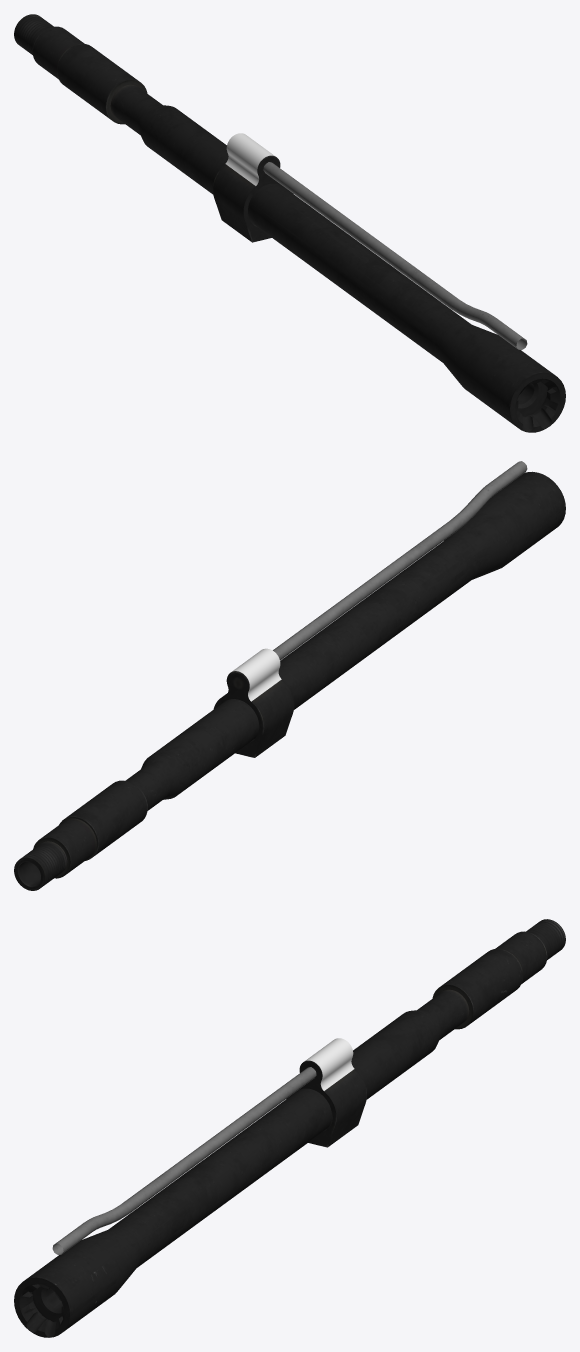
File: AR_15_barrel.glb
3 renders of one model, top to bottom at view 1: azimuth 30°, elevation 25°; view 2: azimuth 150°, elevation 25°; view 3: azimuth 330°, elevation 25°, orthographic.
Visible parts, largest first — view 1: M4_Barrel_4, M4_Barrel_5, M4_Barrel_4_Gas_Tube, M4_Gas_Block; view 2: M4_Barrel_4, M4_Barrel_5, M4_Gas_Block, M4_Barrel_4_Gas_Tube; view 3: M4_Barrel_4, M4_Barrel_5, M4_Barrel_4_Gas_Tube, M4_Gas_Block.
Part boxes in pixels (left/top/right/bottom): M4_Barrel_4: left=14, top=14, right=565, bottom=432; M4_Barrel_5: left=254, top=203, right=565, bottom=432; M4_Barrel_4_Gas_Tube: left=263, top=162, right=527, bottom=349; M4_Gas_Block: left=213, top=133, right=293, bottom=242; M4_Barrel_4: left=14, top=471, right=565, bottom=890; M4_Barrel_5: left=293, top=472, right=565, bottom=691; M4_Gas_Block: left=213, top=648, right=294, bottom=757; M4_Barrel_4_Gas_Tube: left=273, top=461, right=527, bottom=660; M4_Barrel_4: left=14, top=919, right=565, bottom=1337; M4_Barrel_5: left=14, top=1109, right=301, bottom=1337; M4_Barrel_4_Gas_Tube: left=52, top=1067, right=316, bottom=1254; M4_Gas_Block: left=286, top=1038, right=366, bottom=1147.
Size of the model in its own units: 2.43 by 3.54 by 38.15.
2 materials, 1 textured.
